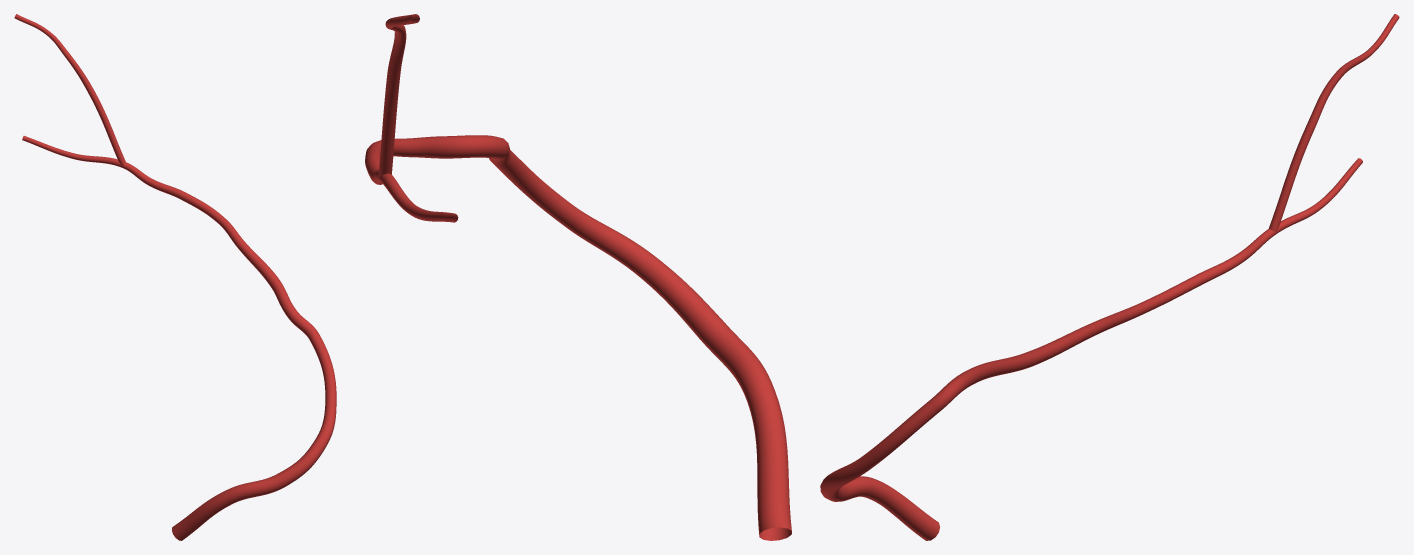
3 views of the same model, side by side, from view 1: azimuth 30°, elevation 25°; view 2: azimuth 150°, elevation 25°; view 3: azimuth 270°, elevation 25° (orthographic). The views are drawn at different scales.
Visible parts, largest first — view 1: 左侧大脑中动脉颞支; view 2: 左侧大脑中动脉颞支; view 3: 左侧大脑中动脉颞支.
Boxes of the visible parts, box(x1,y1,x2,y2) form: 左侧大脑中动脉颞支: box(14, 14, 336, 540); 左侧大脑中动脉颞支: box(365, 14, 791, 540); 左侧大脑中动脉颞支: box(820, 14, 1399, 540).
Size of the model in its own units: 0.0268 by 0.067 by 0.0661.
